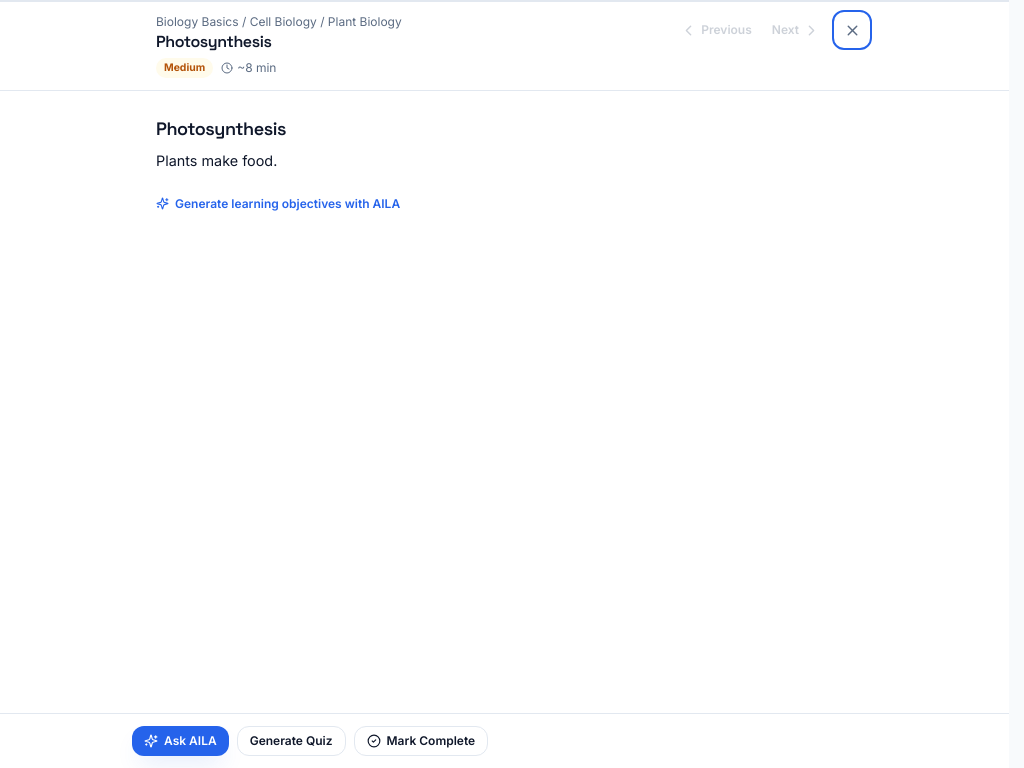
Test case: LessonReader › generates learning objectives on demand
The width and height of the screenshot is (1024, 768).
Check: the text "Plants make food." is shown, box [156,152,277,169]
Click the button "Generate learning objectives with AILA" at (278,204), box [156,196,400,212]
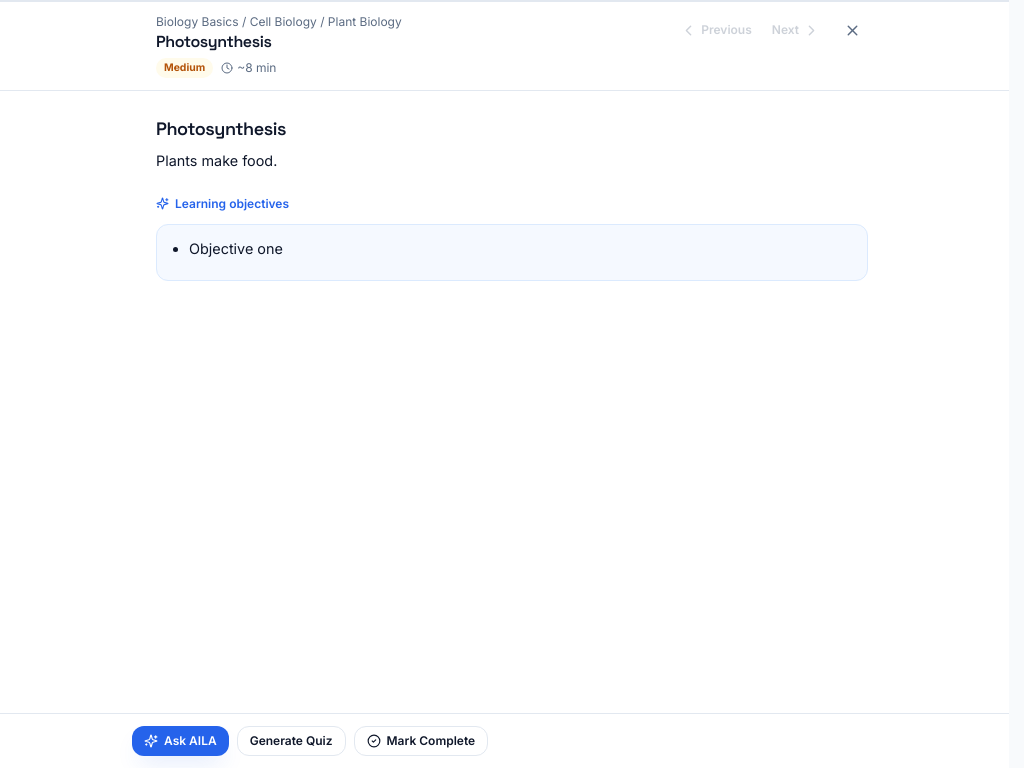
Check: the list item "Objective one" is shown, box [189,240,283,257]
